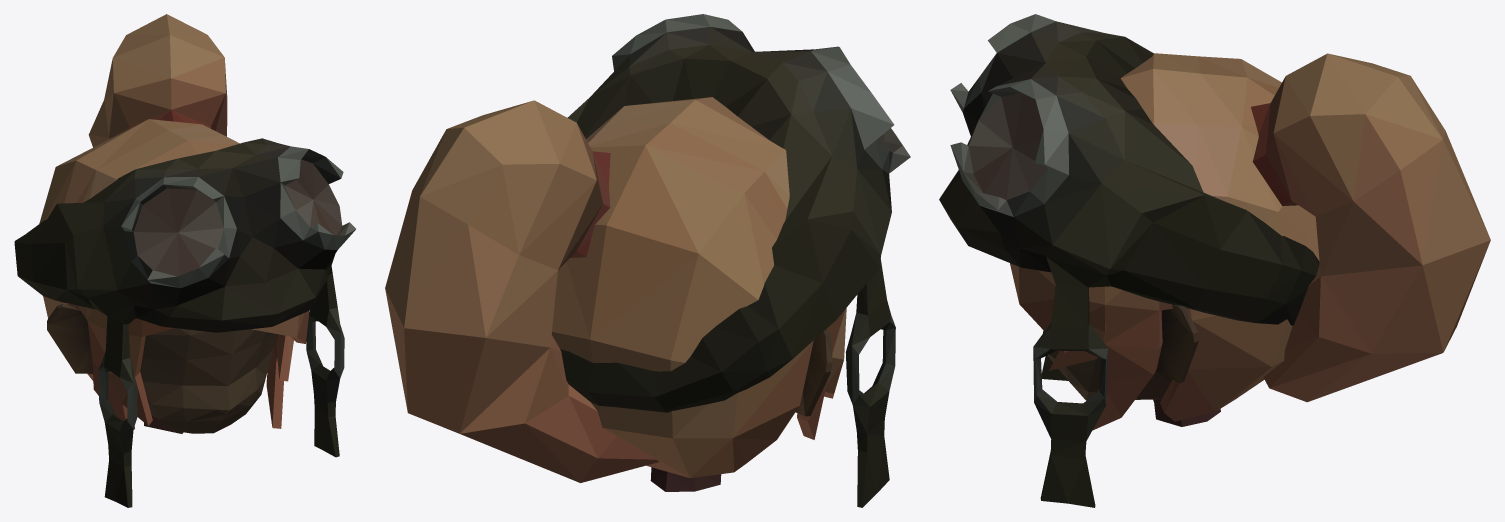
Rendered from helm_darkskin_ponytail_blonde_goggles.fbx.
3 views of the same model, side by side, from view 1: azimuth 30°, elevation 25°; view 2: azimuth 150°, elevation 25°; view 3: azimuth 270°, elevation 25° (orthographic). The views are drawn at different scales.
Parts seen in each view (by area): view 1: helm_darkskin_ponytail_blonde_goggles; view 2: helm_darkskin_ponytail_blonde_goggles; view 3: helm_darkskin_ponytail_blonde_goggles.
Boxes of the visible parts, x1,y1,x2,y2 form: helm_darkskin_ponytail_blonde_goggles: (14,14,355,507); helm_darkskin_ponytail_blonde_goggles: (385,14,910,507); helm_darkskin_ponytail_blonde_goggles: (939,14,1490,507).
Size of the model in its own units: 1.25 by 1.58 by 1.86.
